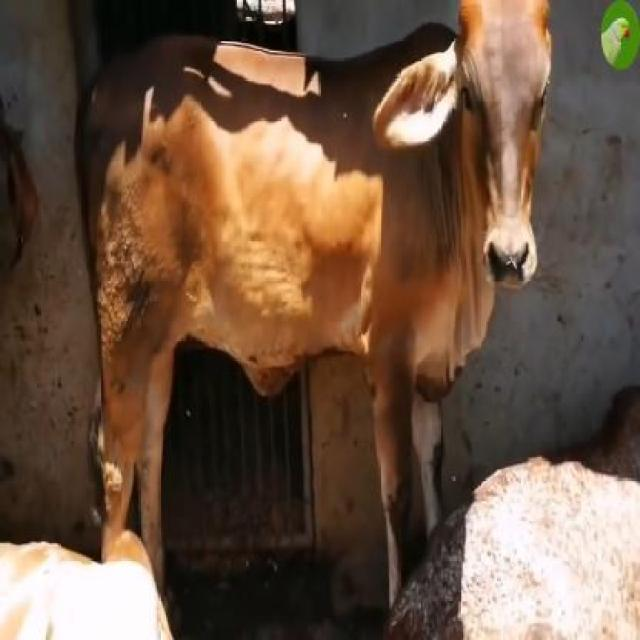Cow: (74, 2, 555, 623)
